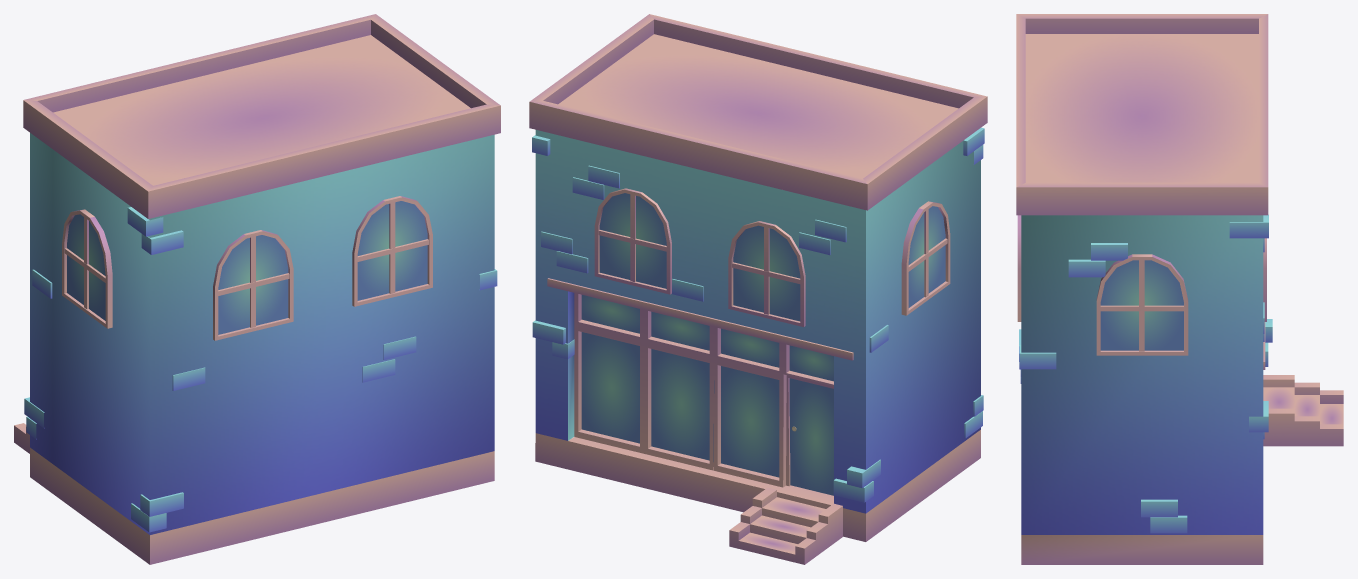
Rendered from SM_2F_Half_04.fbx.
3 renders of one model, left to right at view 1: azimuth 30°, elevation 25°; view 2: azimuth 150°, elevation 25°; view 3: azimuth 270°, elevation 25°, orthographic. The views are drawn at different scales.
Visible parts, largest first — view 1: SM_2F_Half_04; view 2: SM_2F_Half_04; view 3: SM_2F_Half_04.
Part boxes in pixels (x1,y1,x2,y2): SM_2F_Half_04: (14, 14, 500, 564); SM_2F_Half_04: (529, 14, 987, 564); SM_2F_Half_04: (1016, 14, 1343, 564).
Bounding box in the file's own units: 7.91 × 6.27 × 8.03.
